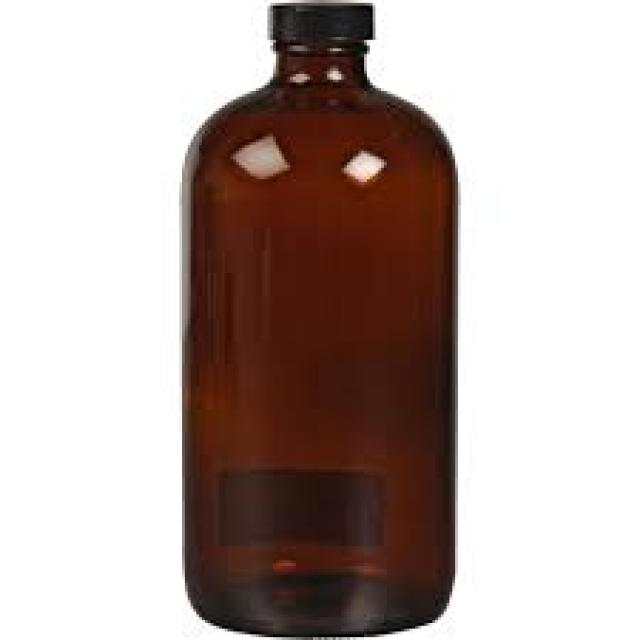glass: (182, 82, 452, 631)
